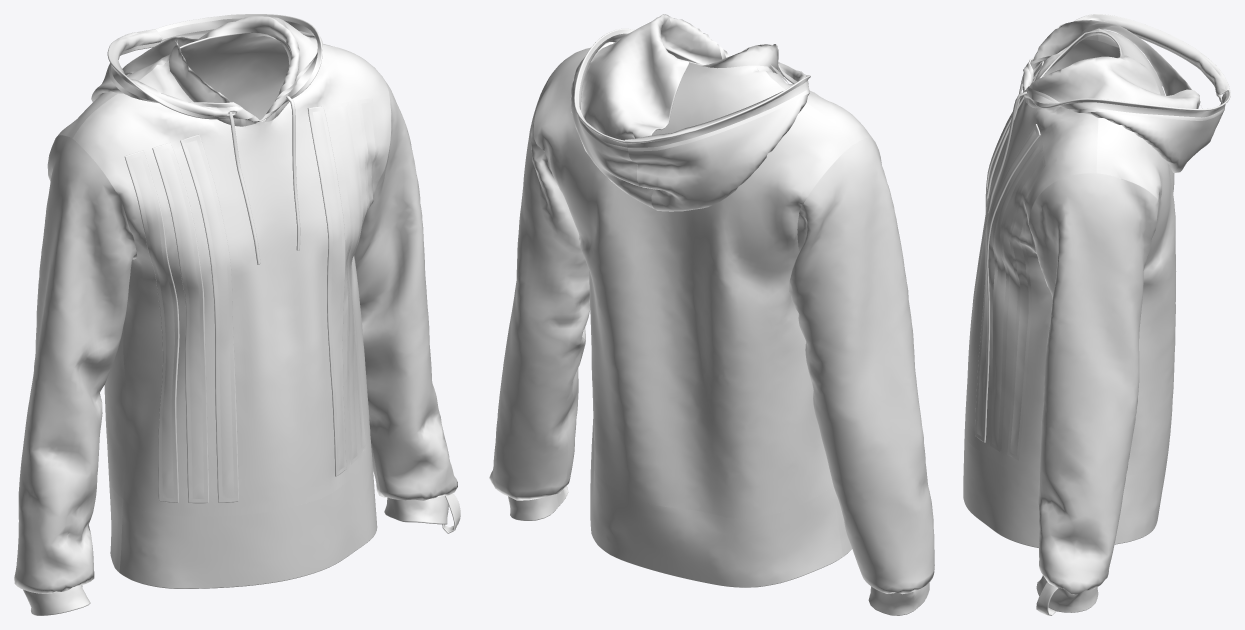
File: 1761624891691-lugaFata.glb
The picture shows the model from 3 angles, left to right: view 1: azimuth 30°, elevation 25°; view 2: azimuth 150°, elevation 25°; view 3: azimuth 270°, elevation 25°; orthographic projection. The views are drawn at different scales.
Visible parts, largest first — view 1: Cloth_1; view 2: Cloth_1; view 3: Cloth_1.
Boxes of the visible parts, x1,y1,x2,y2 form: Cloth_1: (14, 14, 460, 615); Cloth_1: (489, 14, 934, 615); Cloth_1: (963, 14, 1230, 615).
Size of the model in its own units: 0.064 by 0.0754 by 0.0375.
Materials: 3 (1 with a texture image).
